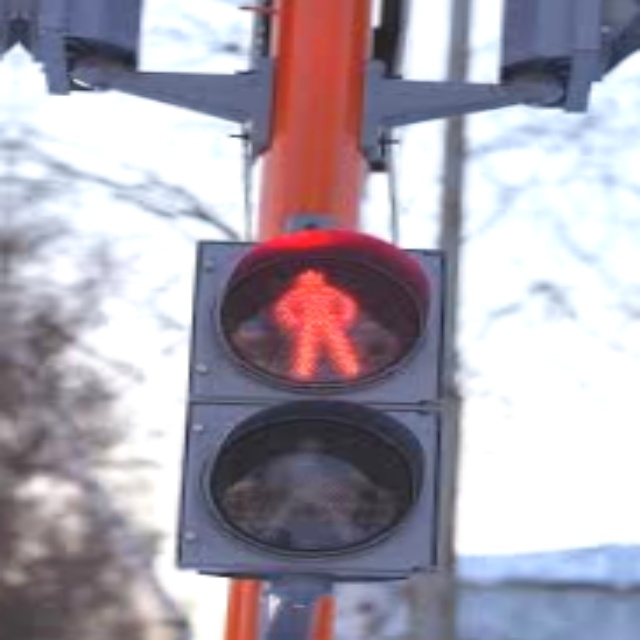red_light: (268, 263, 375, 379)
